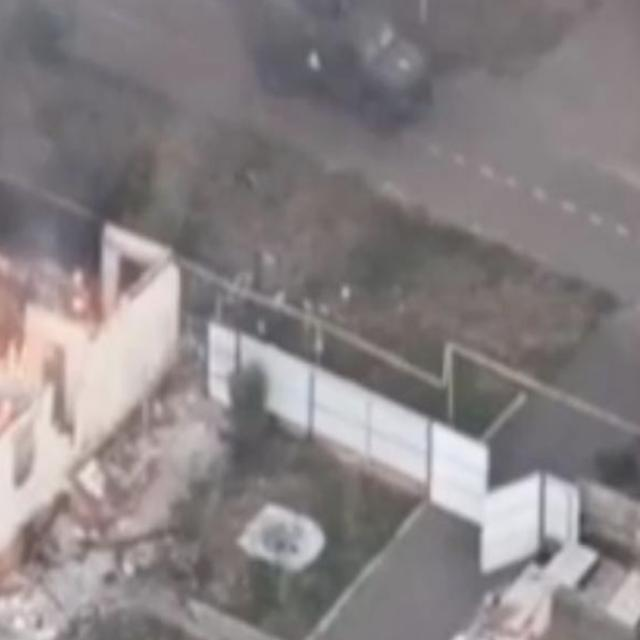vehicle: (250, 0, 436, 131)
